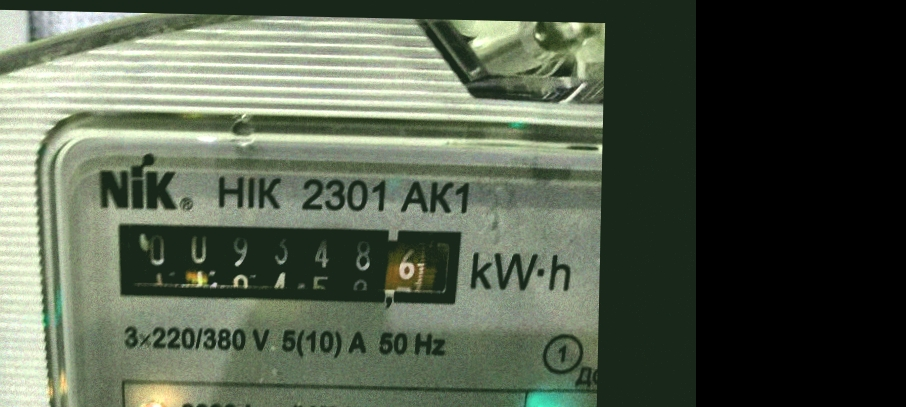0: (187, 230, 209, 267), (146, 232, 166, 267)
3: (269, 233, 291, 266)
4: (309, 234, 330, 272)
6: (395, 246, 418, 281)
8: (352, 237, 372, 272)
9: (230, 232, 248, 267)
screen: (93, 208, 480, 319)
